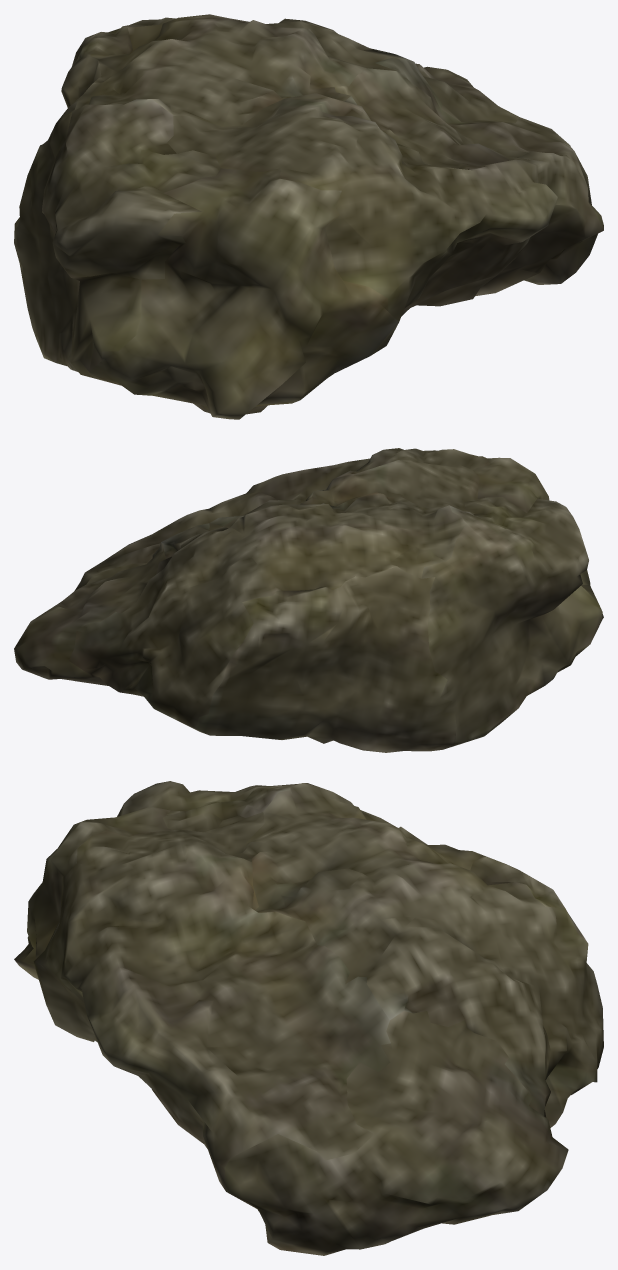
The model's file is rock-moss-c.glb.
3 views of the same model, one above another, from view 1: azimuth 30°, elevation 25°; view 2: azimuth 150°, elevation 25°; view 3: azimuth 270°, elevation 25° (orthographic). The views are drawn at different scales.
Parts seen in each view (by area): view 1: rock_moss_set_02_rock12; view 2: rock_moss_set_02_rock12; view 3: rock_moss_set_02_rock12.
Boxes of the visible parts, x1,y1,x2,y2 form: rock_moss_set_02_rock12: (14, 14, 603, 419); rock_moss_set_02_rock12: (14, 448, 603, 752); rock_moss_set_02_rock12: (14, 781, 603, 1255).
Size of the model in its own units: 1.58 by 0.736 by 1.44.
1 material, 1 textured.
